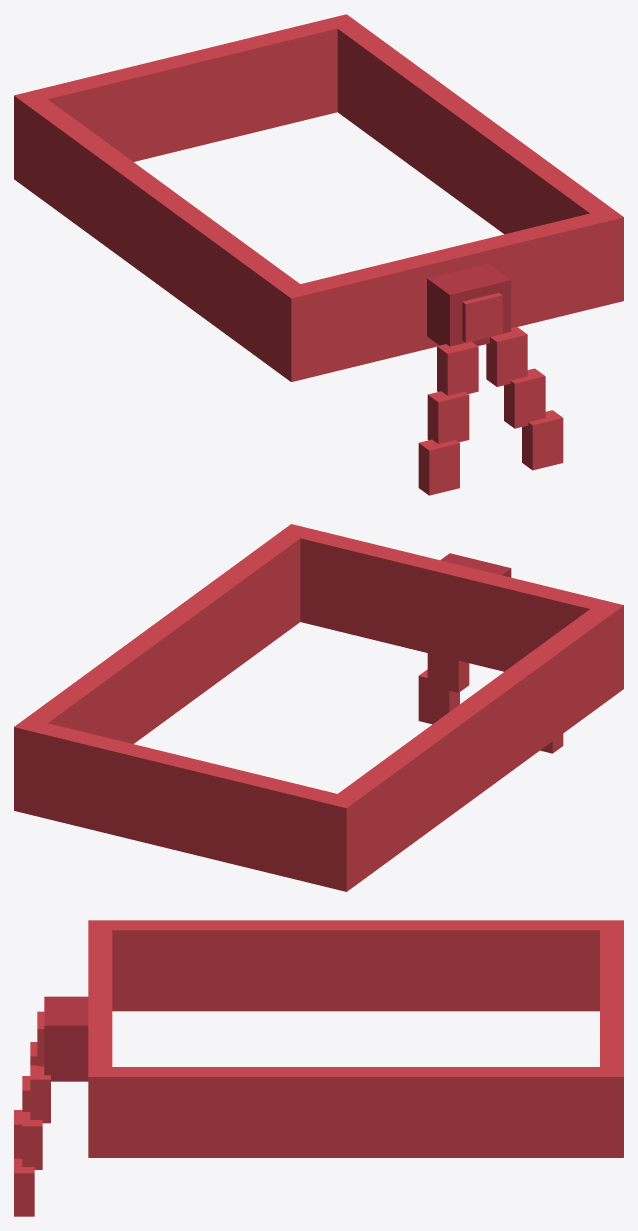
The model's file is bandana_faixa.glb.
The picture shows the model from 3 angles, top to bottom: view 1: azimuth 30°, elevation 25°; view 2: azimuth 150°, elevation 25°; view 3: azimuth 270°, elevation 25°; orthographic projection. The views are drawn at different scales.
Parts seen in each view (by area): view 1: bandana_faixa; view 2: bandana_faixa; view 3: bandana_faixa.
Part boxes in pixels (x1,y1,x2,y2): bandana_faixa: [14, 14, 623, 495]; bandana_faixa: [14, 524, 623, 891]; bandana_faixa: [14, 920, 623, 1216].
Size of the model in its own units: 0.541 by 0.3 by 0.8895.
